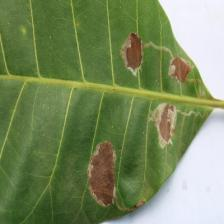leaf miner: (0, 0, 223, 224), (86, 140, 116, 207), (119, 32, 143, 76)
